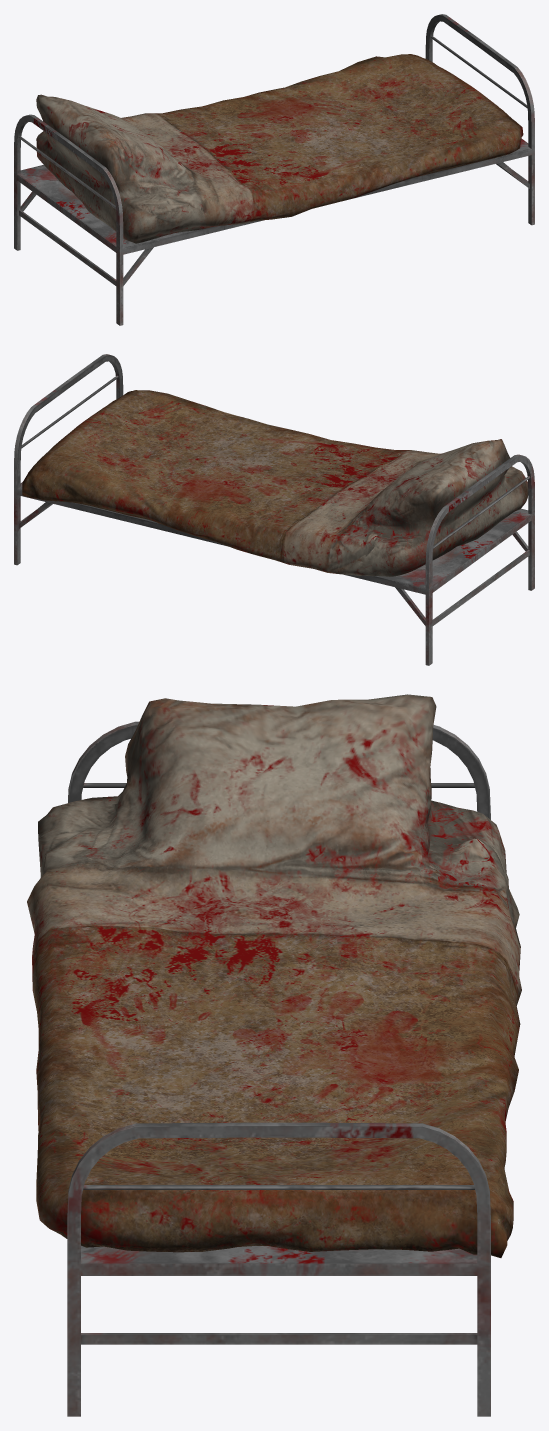
Rendered from cama.glb.
The picture shows the model from 3 angles, top to bottom: view 1: azimuth 30°, elevation 25°; view 2: azimuth 150°, elevation 25°; view 3: azimuth 270°, elevation 25°; orthographic projection. The views are drawn at different scales.
Parts seen in each view (by area): view 1: Bed_low, Frame_low; view 2: Bed_low, Frame_low; view 3: Bed_low, Frame_low.
Part boxes in pixels (x1,y1,x2,y2): Bed_low: (36,54,523,243); Frame_low: (14,14,534,325); Bed_low: (22,390,528,576); Frame_low: (14,354,534,665); Bed_low: (27,694,521,1257); Frame_low: (67,721,490,1416).
Bounding box in the file's own units: 2.22 × 0.8401 × 1.15.
Materials: 1 (1 with a texture image).
